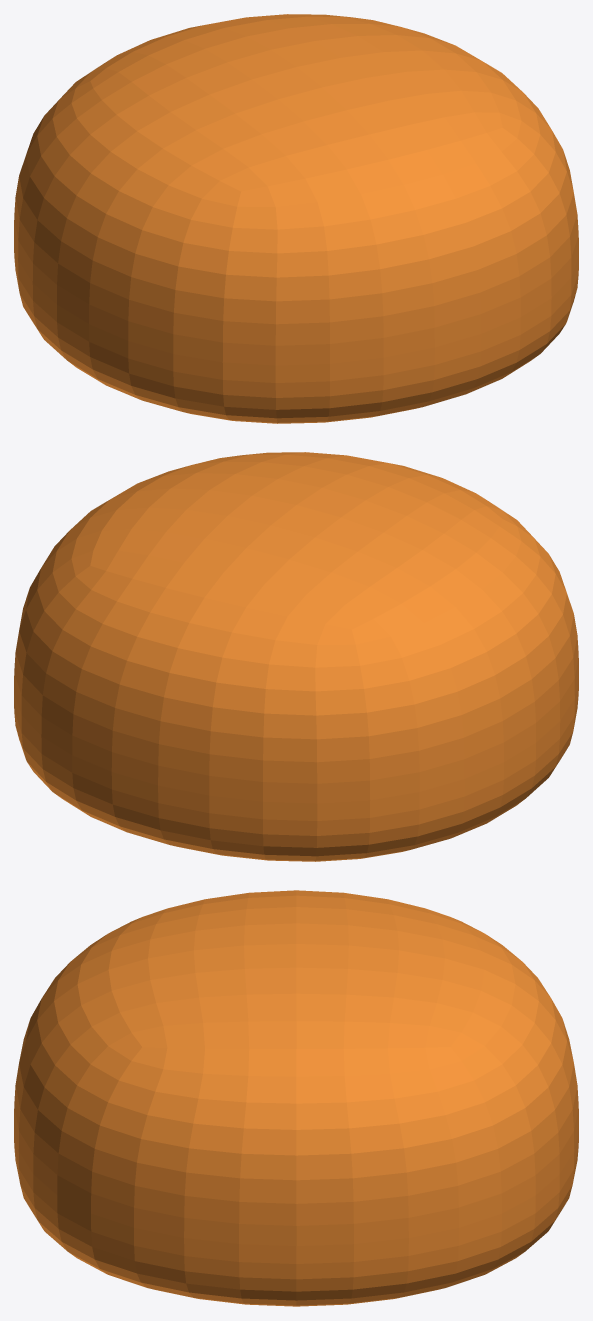
File: panSuperior.glb
3 renders of one model, top to bottom at view 1: azimuth 30°, elevation 25°; view 2: azimuth 150°, elevation 25°; view 3: azimuth 270°, elevation 25°, orthographic. The views are drawn at different scales.
Parts seen in each view (by area): view 1: Cube; view 2: Cube; view 3: Cube.
Boxes of the visible parts, x1=… form: Cube: x1=14, y1=14, x2=578, y2=423; Cube: x1=14, y1=452, x2=578, y2=861; Cube: x1=14, y1=890, x2=578, y2=1306.
Size of the model in its own units: 2.18 by 1.2 by 2.18.
